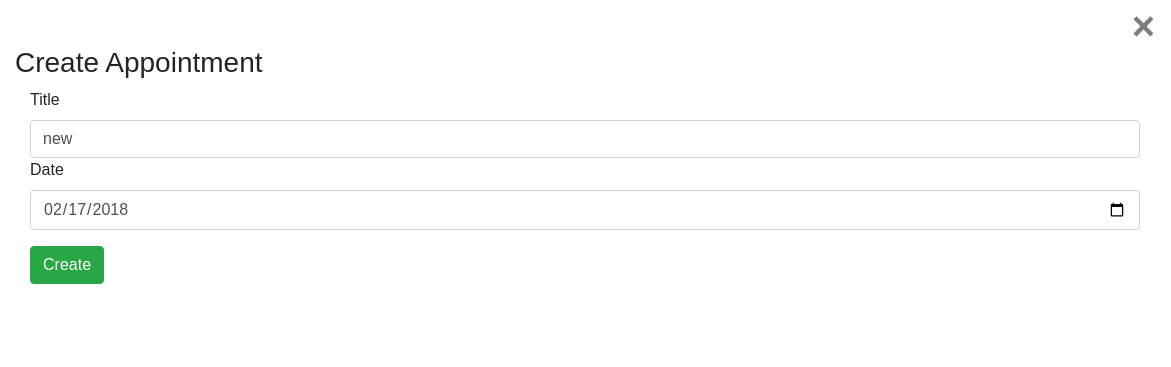
Test: AppointmentForm Component › should warn if creating duplicate
Click the button with class "btn-success" at {"x": 67, "y": 265}, box [30, 246, 104, 284]
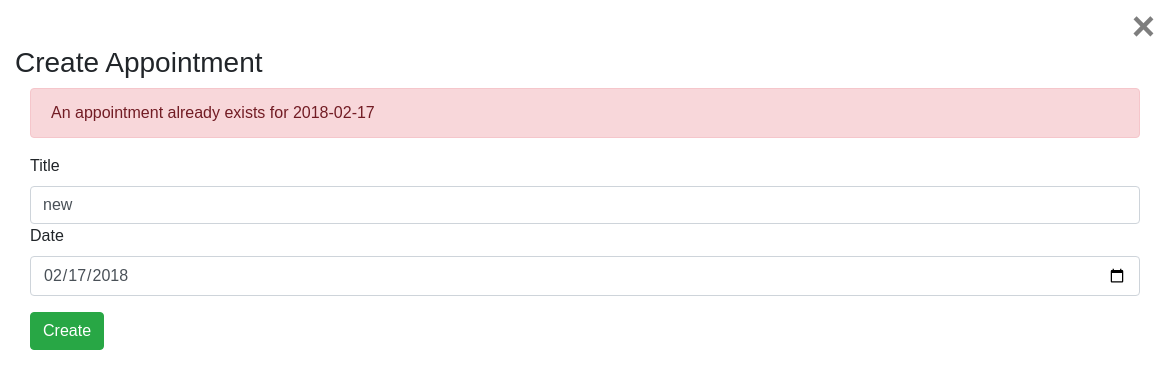
Expected: the text with class "alert" reads "An appointment already exists for 2018-02-17", [30, 88, 1140, 138]
